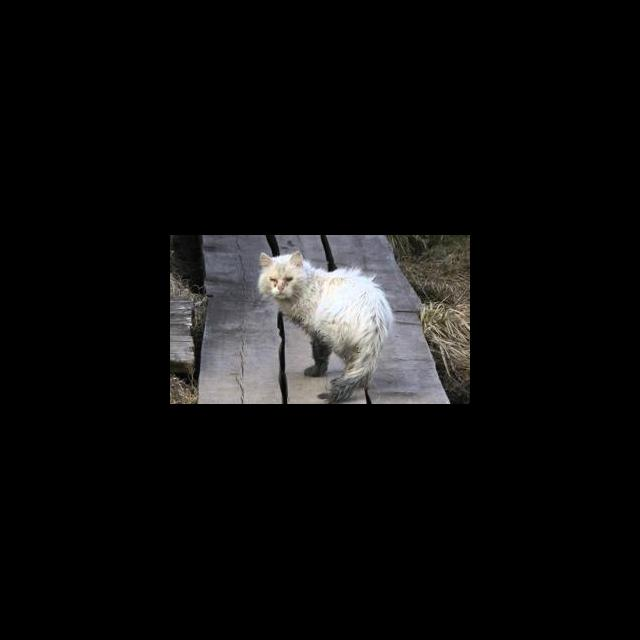animals: (249, 246, 398, 404)
